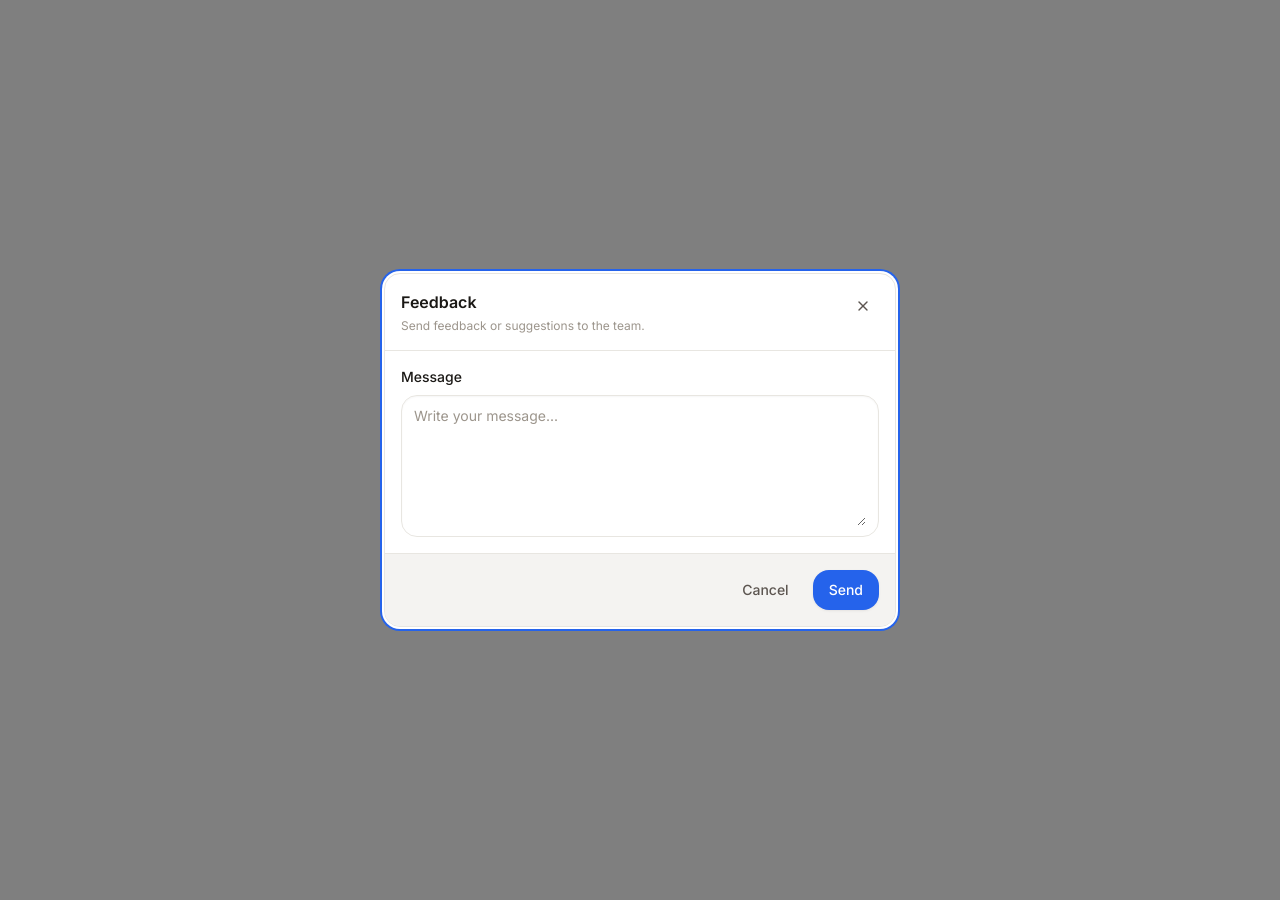
Scenario: ReachoutModal › contains validation failures in a named form error note
The image size is (1280, 900).
Click the button "Send": (846,590) [813,570,879,610]
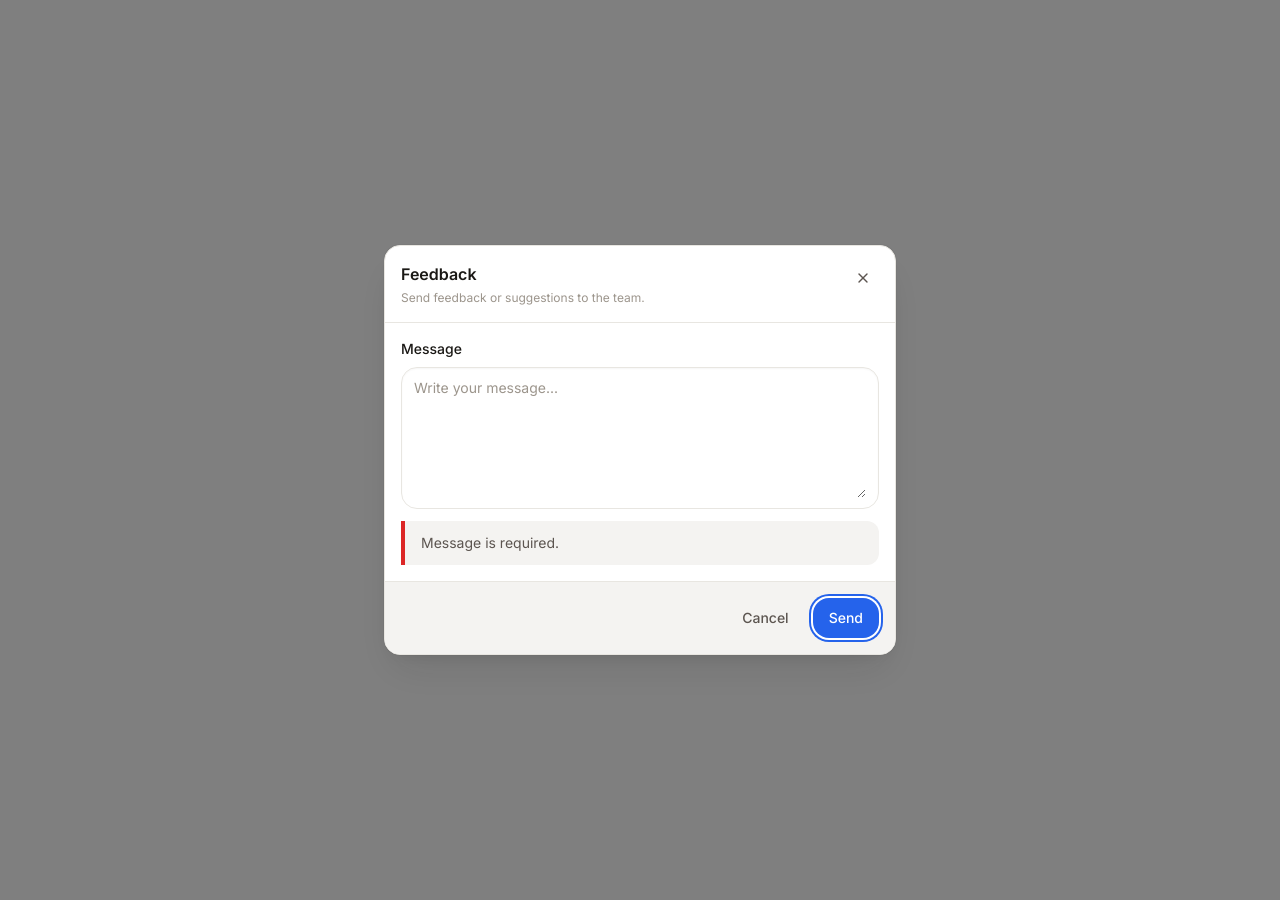
Now the text named "Reachout form error" reads "Message is required.", box [421,534,559,551]
